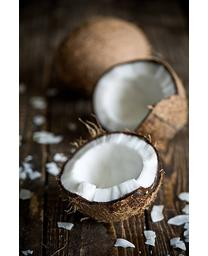coconut: (57, 130, 165, 223), (92, 56, 187, 142)
